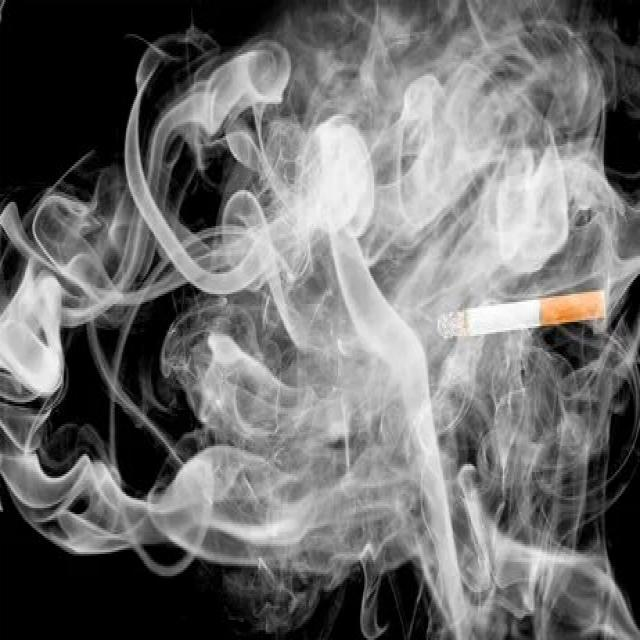cigarette: (439, 282, 612, 348)
